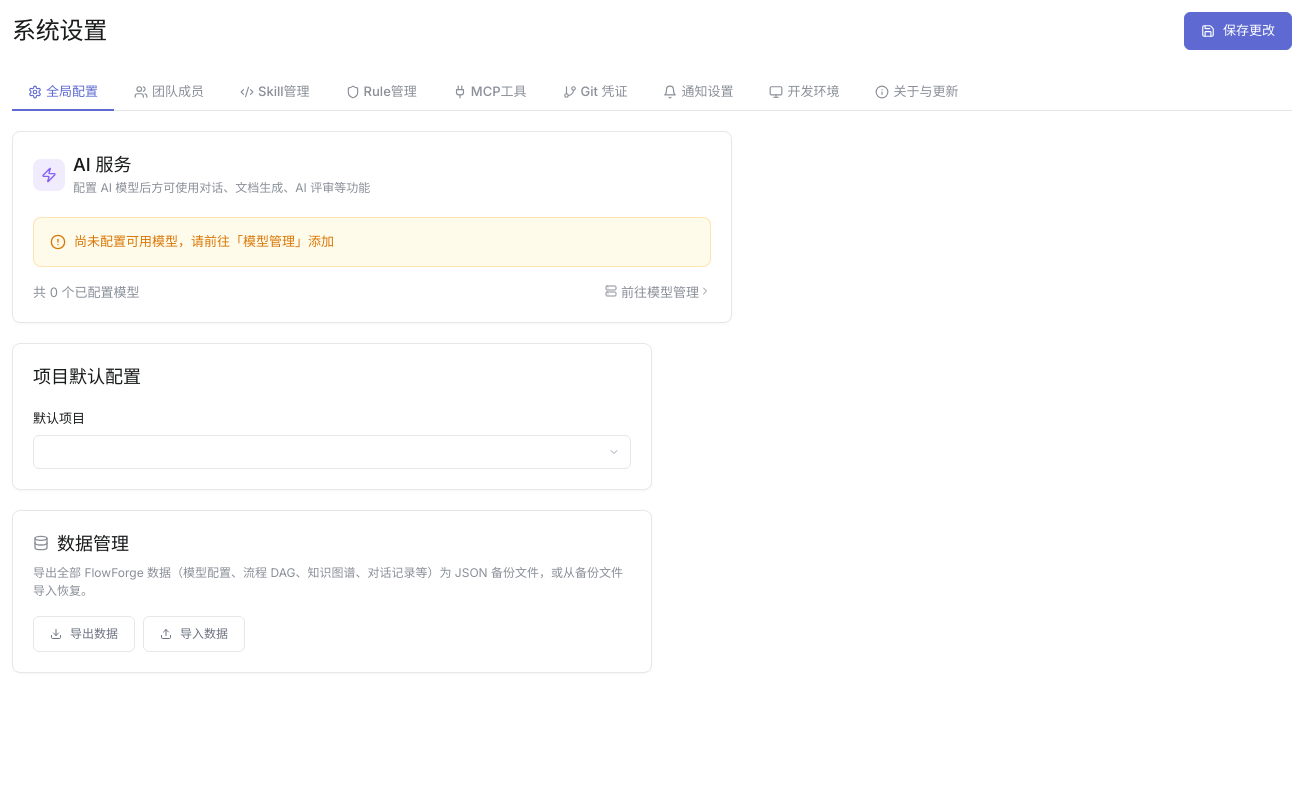
Test: Settings page › dev environment tab shows 3 mode cards
Note: Click the "开发环境" tab
Click the text "开发环境": (804, 91) x1=770 y1=82 x2=840 y2=99
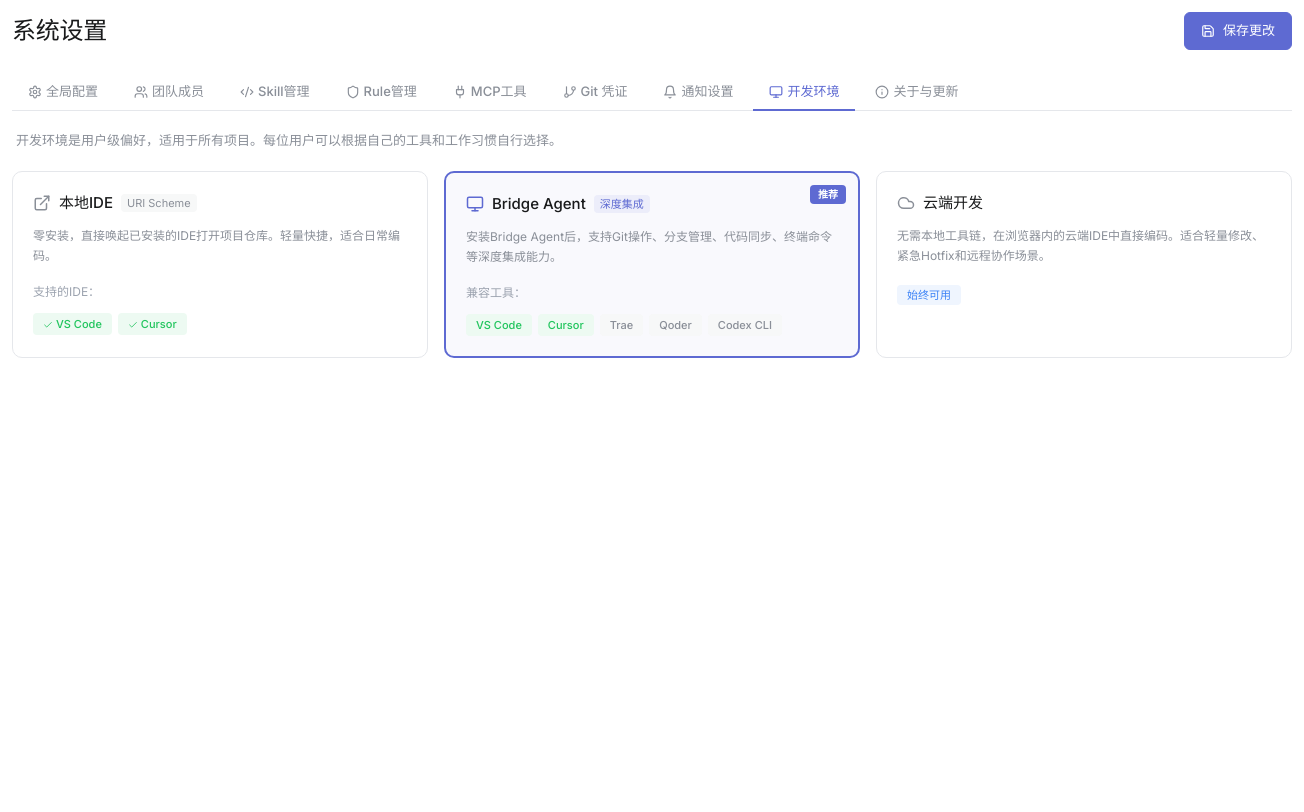
Check: the text "本地IDE" is shown, box x1=59 y1=192 x2=113 y2=214
Check: the text "Bridge Agent" is shown, box x1=492 y1=192 x2=586 y2=215
Check: the text "云端开发" is shown, box x1=923 y1=192 x2=983 y2=214
